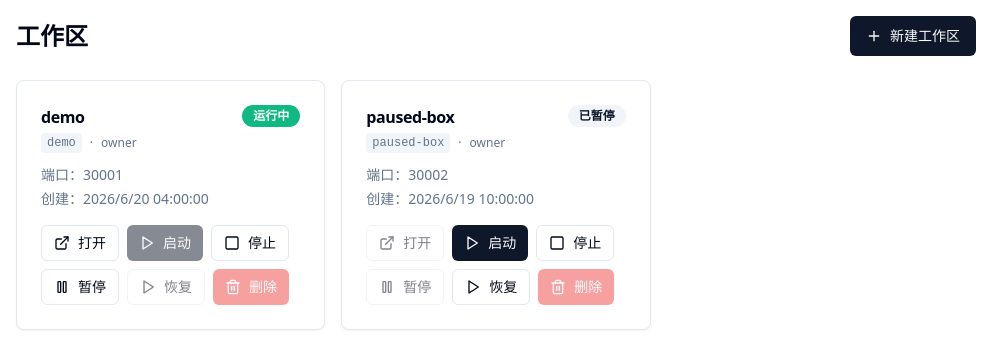
it: Workspaces 列表 › paused 工作区可启动（乐观 starting → mock 最终 running）
Expected: the element with test id "workspace-card-paused-box" is shown, [341,80,651,330]
What coordinates should you click on to do the following:
click the button with test id "ws-start-paused-box"
I would click on:
 (490, 243)
Its box is [452,225,528,261].
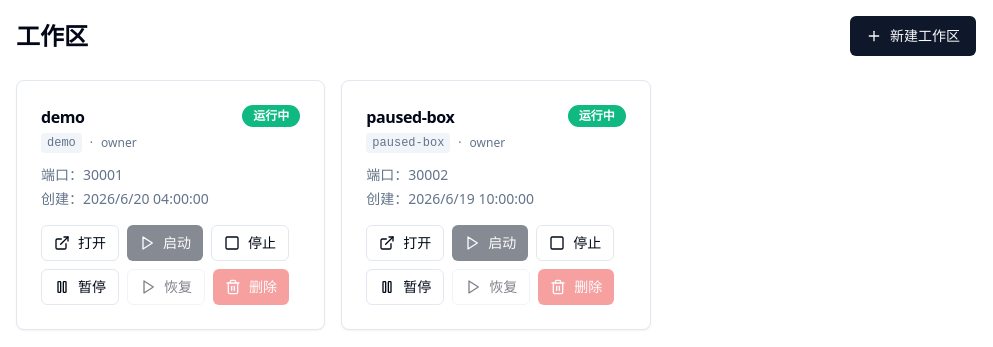
Expected: the element with test id "workspace-card-paused-box" shows "运行中", [579,107,615,124]
